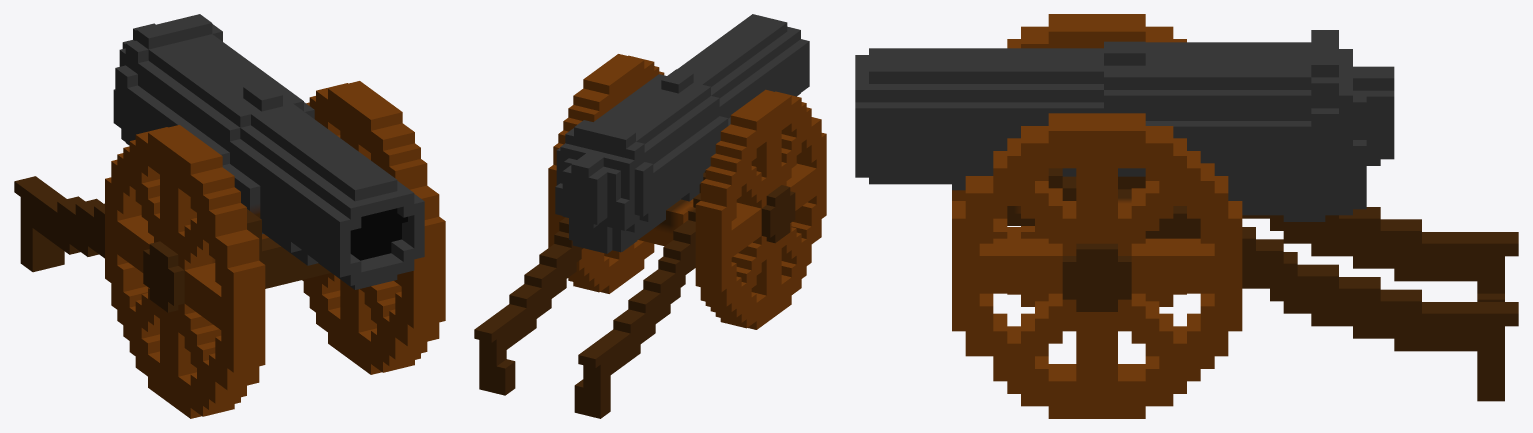
Rendered from simple_cannon.fbx.
3 views of the same model, side by side, from view 1: azimuth 30°, elevation 25°; view 2: azimuth 150°, elevation 25°; view 3: azimuth 270°, elevation 25° (orthographic). The views are drawn at different scales.
Visible parts, largest first — view 1: simple_cannon; view 2: simple_cannon; view 3: simple_cannon.
Part boxes in pixels (x1,y1,x2,y2): simple_cannon: [14, 14, 445, 418]; simple_cannon: [474, 14, 826, 418]; simple_cannon: [855, 14, 1518, 418].
Bounding box in the file's own units: 22 × 25 × 48.
Materials: 1 (1 with a texture image).
